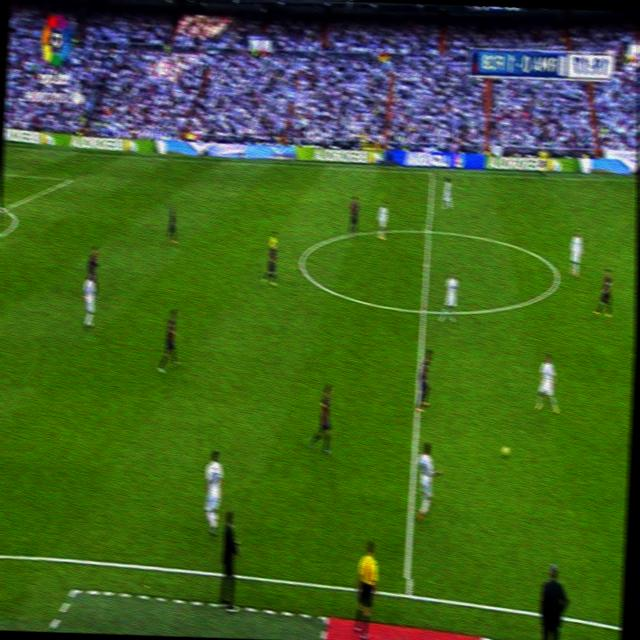halfcircle_bottom: (417, 296, 429, 322)
halfcircle_top: (422, 220, 434, 240)
midline_bottom_intersection: (397, 578, 413, 602)
midline_top_intersection: (428, 165, 437, 178)
top_arc_area_intersection: (0, 199, 9, 214)
